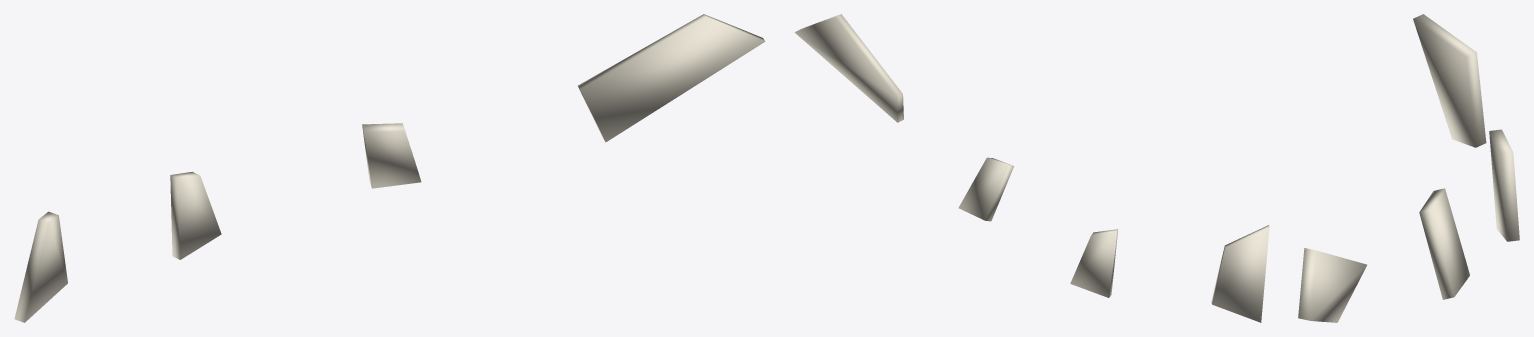
3 renders of one model, left to right at view 1: azimuth 30°, elevation 25°; view 2: azimuth 150°, elevation 25°; view 3: azimuth 270°, elevation 25°, orthographic. The views are drawn at different scales.
Parts seen in each view (by area): view 1: ZA_d7d8b2ab13f73f8b; view 2: ZA_d7d8b2ab13f73f8b; view 3: ZA_d7d8b2ab13f73f8b.
Boxes of the visible parts, x1,y1,x2,y2 form: ZA_d7d8b2ab13f73f8b: (14,14,765,322); ZA_d7d8b2ab13f73f8b: (794,14,1269,322); ZA_d7d8b2ab13f73f8b: (1298,14,1519,322).
Size of the model in its own units: 0.034 by 0.0097 by 0.00857.
